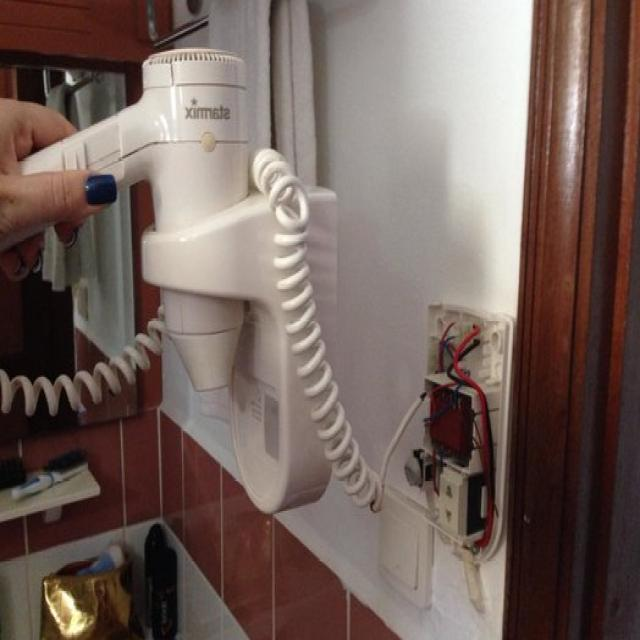dryer: (0, 16, 359, 534), (26, 44, 273, 430)
